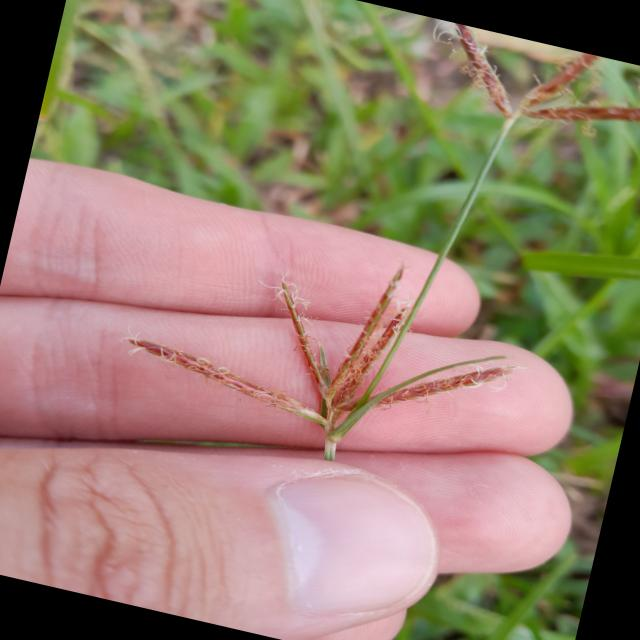cyperus: (100, 0, 640, 525), (102, 200, 546, 489), (388, 13, 640, 188)
